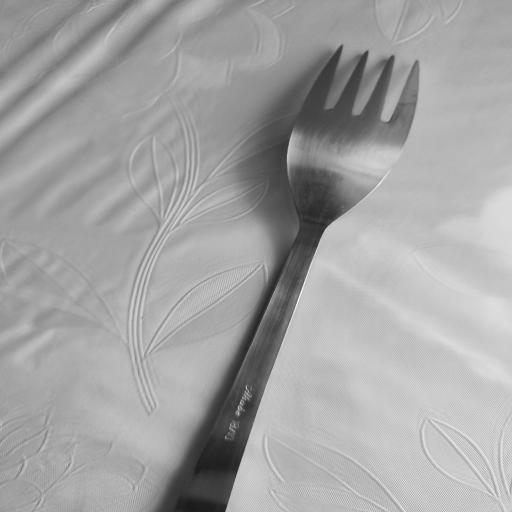fork: (163, 41, 430, 512)
